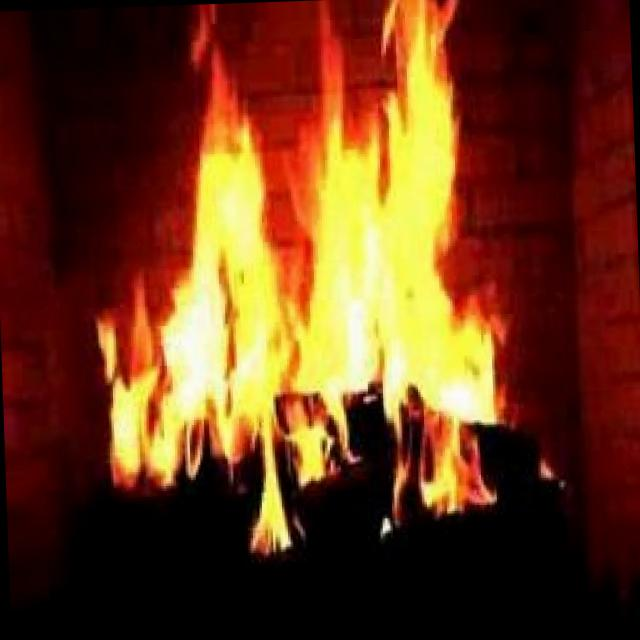fire: (77, 0, 568, 566)
